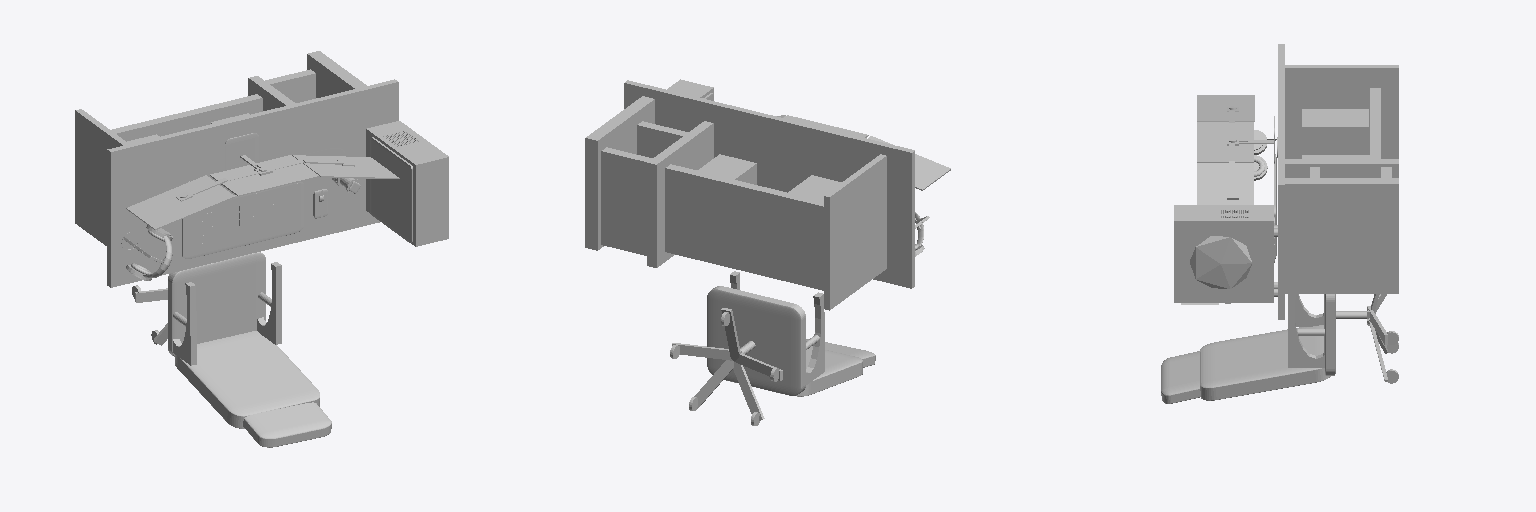
File: tinker[2].obj
3 views of the same model, side by side, from view 1: azimuth 30°, elevation 25°; view 2: azimuth 150°, elevation 25°; view 3: azimuth 270°, elevation 25° (orthographic).
Parts seen in each view (by area): view 1: obj_0; view 2: obj_0; view 3: obj_0.
Boxes of the visible parts, x1,y1,x2,y2 form: obj_0: [75, 51, 448, 447]; obj_0: [585, 79, 950, 425]; obj_0: [1161, 44, 1398, 403].
Bounding box in the file's own units: 94.6 × 86.8 × 66.66.